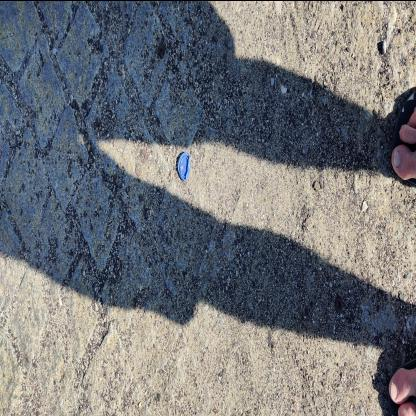plastik: (177, 151, 191, 182)
